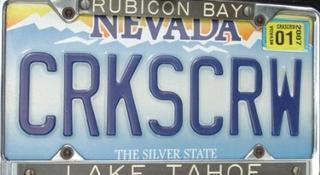placa de veiculo: (5, 4, 312, 175)
